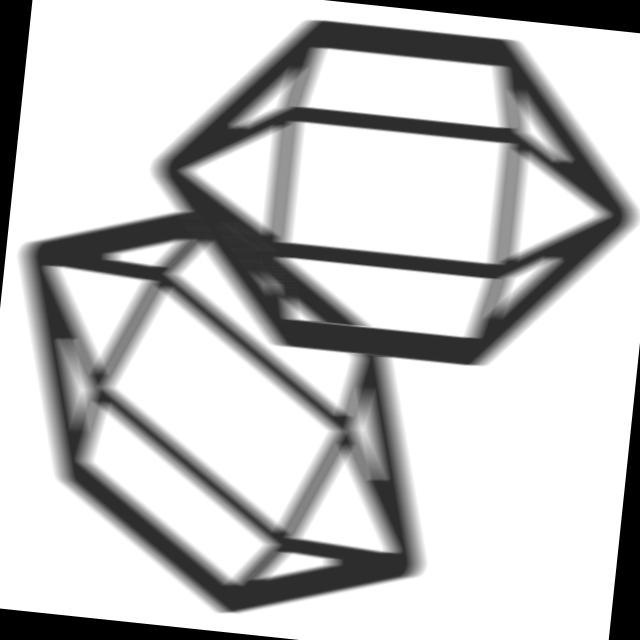crystal: (1, 176, 476, 640), (124, 1, 640, 395)
